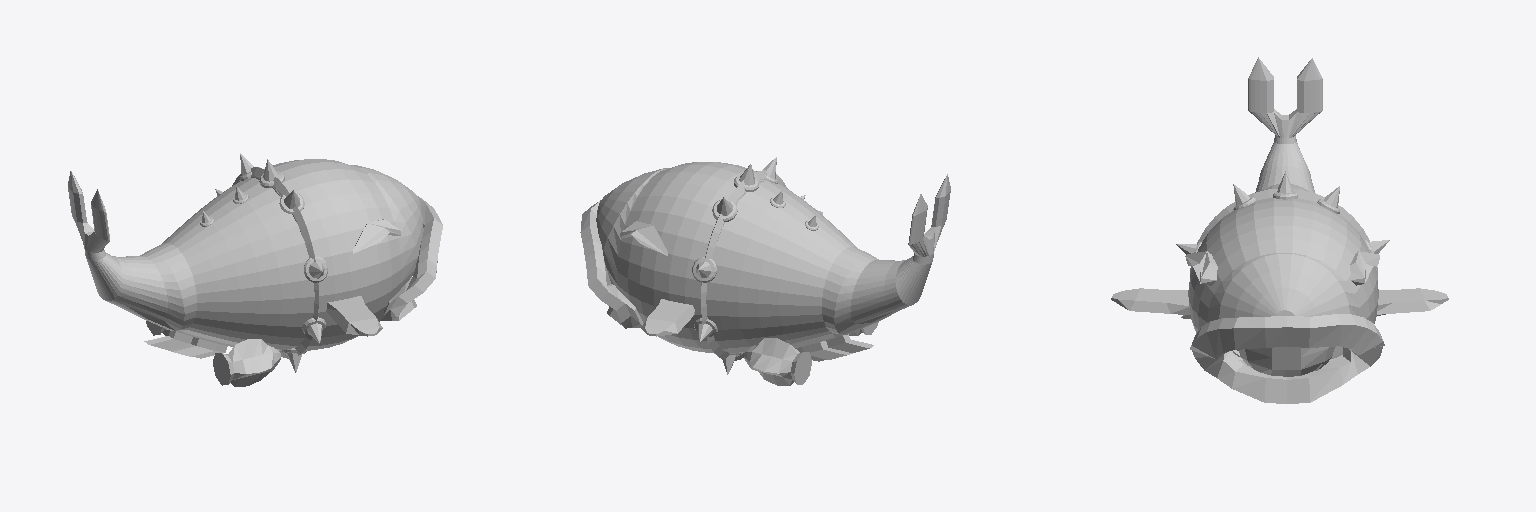
File: OshuniaShip01.obj
3 views of the same model, side by side, from view 1: azimuth 30°, elevation 25°; view 2: azimuth 150°, elevation 25°; view 3: azimuth 270°, elevation 25° (orthographic).
Parts seen in each view (by area): view 1: Cube, Cube.001, Cube.003; view 2: Cube, Cube.001, Cube.003; view 3: Cube, Cube.001, Cube.003, Cube.002.
Boxes of the visible parts, x1=… form: Cube: x1=68, y1=159, x2=423, y2=358; Cube.001: x1=146, y1=196, x2=442, y2=386; Cube.003: x1=200, y1=153, x2=327, y2=372; Cube: x1=596, y1=162, x2=950, y2=361; Cube.001: x1=580, y1=200, x2=878, y2=385; Cube.003: x1=692, y1=157, x2=818, y2=374; Cube: x1=1188, y1=57, x2=1378, y2=364; Cube.001: x1=1111, y1=251, x2=1448, y2=403; Cube.003: x1=1176, y1=171, x2=1389, y2=356; Cube.002: x1=1239, y1=347, x2=1334, y2=376.
Size of the model in its own units: 8.95 by 5.81 by 7.65.